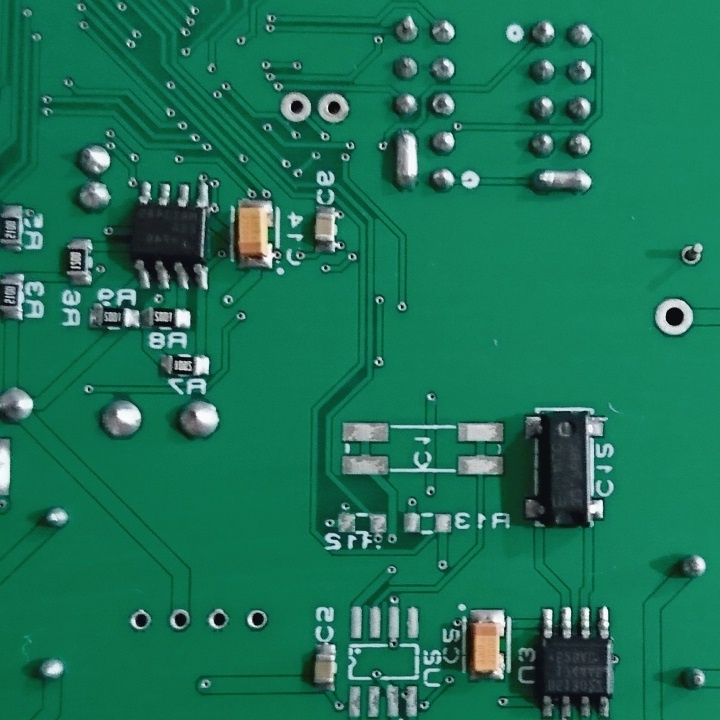F: (651, 295, 695, 339), (273, 88, 311, 128), (316, 86, 350, 128), (681, 237, 707, 269), (204, 606, 230, 635), (127, 606, 155, 632), (167, 606, 192, 634), (243, 607, 270, 632)
P: (526, 162, 596, 198), (391, 128, 421, 192)
